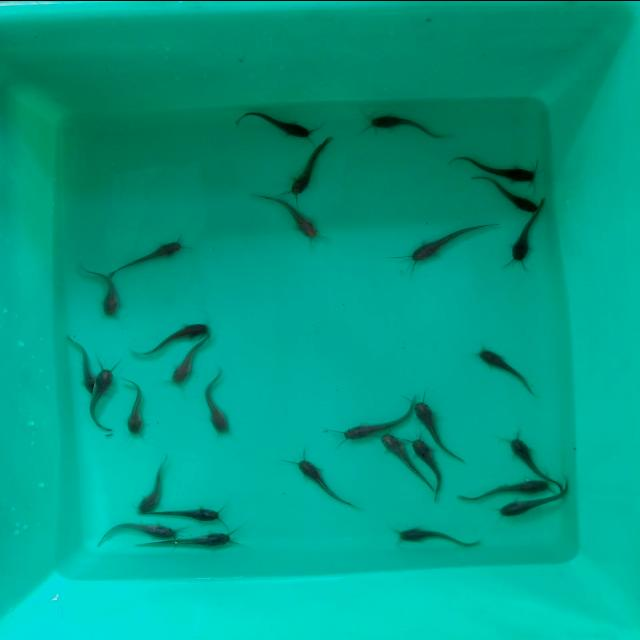lele: (286, 457, 360, 507), (407, 220, 489, 260), (284, 136, 334, 194), (140, 319, 208, 359), (261, 195, 319, 241), (452, 152, 538, 182), (474, 345, 528, 391), (324, 408, 404, 438), (78, 262, 124, 314), (59, 332, 96, 396), (171, 334, 213, 388), (478, 496, 572, 520), (396, 524, 482, 550), (238, 107, 314, 136), (133, 457, 171, 512), (115, 240, 178, 272), (413, 436, 441, 508), (371, 112, 445, 138), (480, 178, 540, 210), (200, 378, 232, 436), (508, 436, 552, 478), (139, 532, 231, 552), (378, 432, 412, 486), (90, 364, 114, 434), (414, 398, 456, 438), (456, 478, 546, 496), (95, 520, 176, 540), (511, 213, 538, 266), (156, 505, 223, 523), (129, 376, 147, 438)
